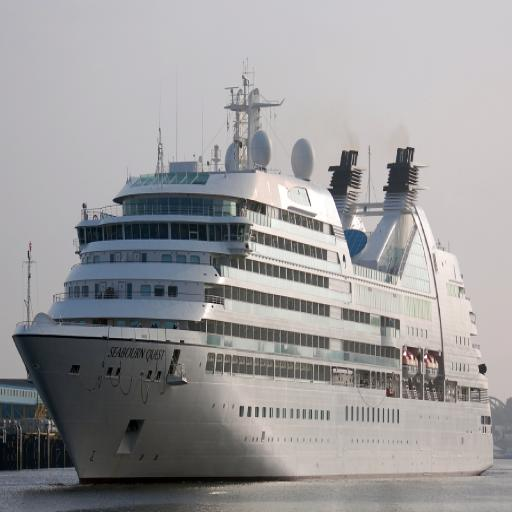cruises: (10, 73, 497, 493)
